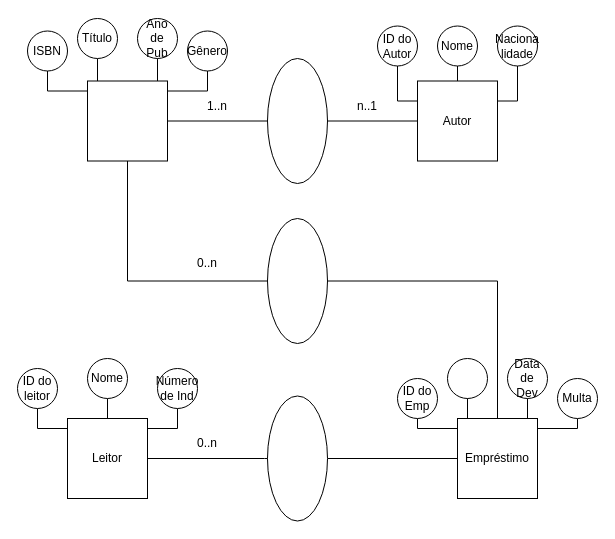
Image size: 615x539. Some labels were removed from this diagram. Each missing label, with the centre of its shape:
"Data do Emp" belongs at (x=467, y=378).
"Emprestado" belongs at (x=297, y=281).
"Escrever" belongs at (x=297, y=121).
"Livro" belongs at (x=127, y=120).
"Realizar" belongs at (x=297, y=458).
